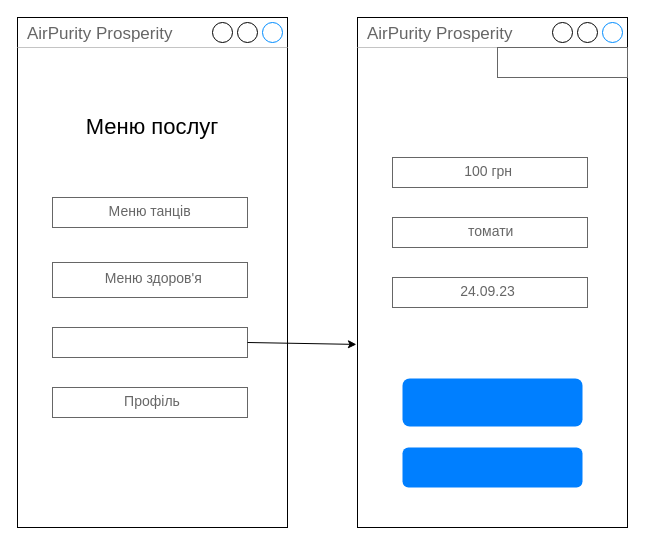
Some shapes in this 645 by 555 pixel diagram are drawn without their labels. Each missing label, with the centre of its shape:
"Додати витрату" goes at [492,402].
"Додати прибуток" goes at [492,467].
"Залишок: 8280" goes at [562,62].
"Скарбничка" goes at [150,342].
